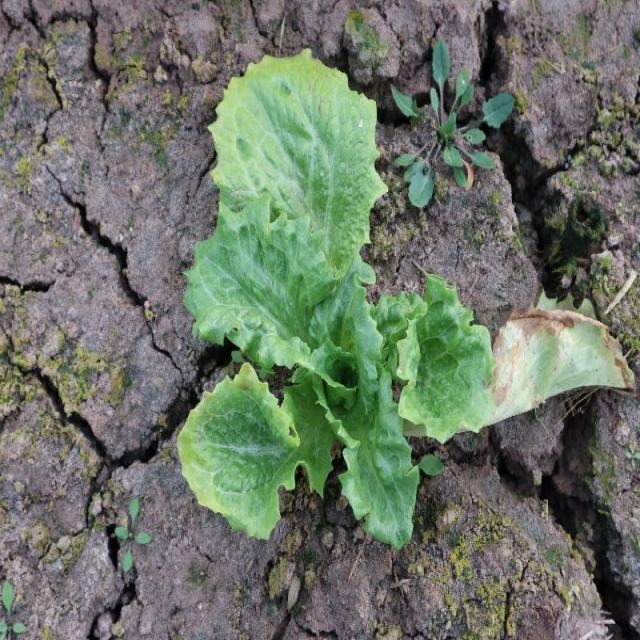crop: (185, 52, 490, 544)
